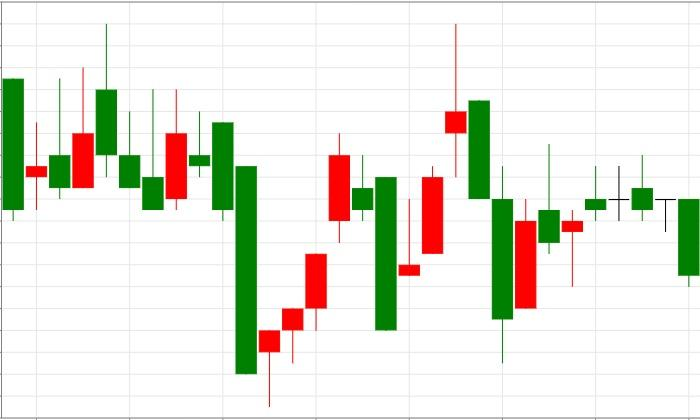three_white_soldiers_rise: (189, 112, 327, 407)
